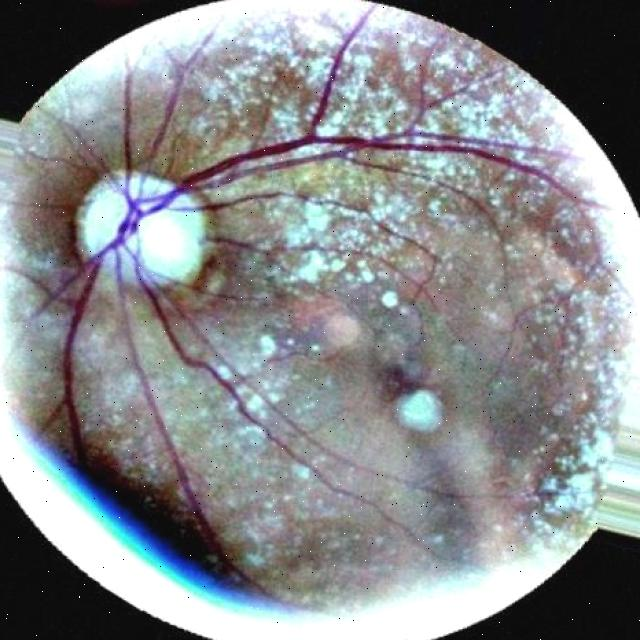Macula: (368, 361, 432, 420)
Nerves: (47, 11, 584, 470), (129, 323, 229, 563), (151, 33, 214, 159), (217, 238, 254, 251)
Optic Disk: (78, 171, 198, 285)
